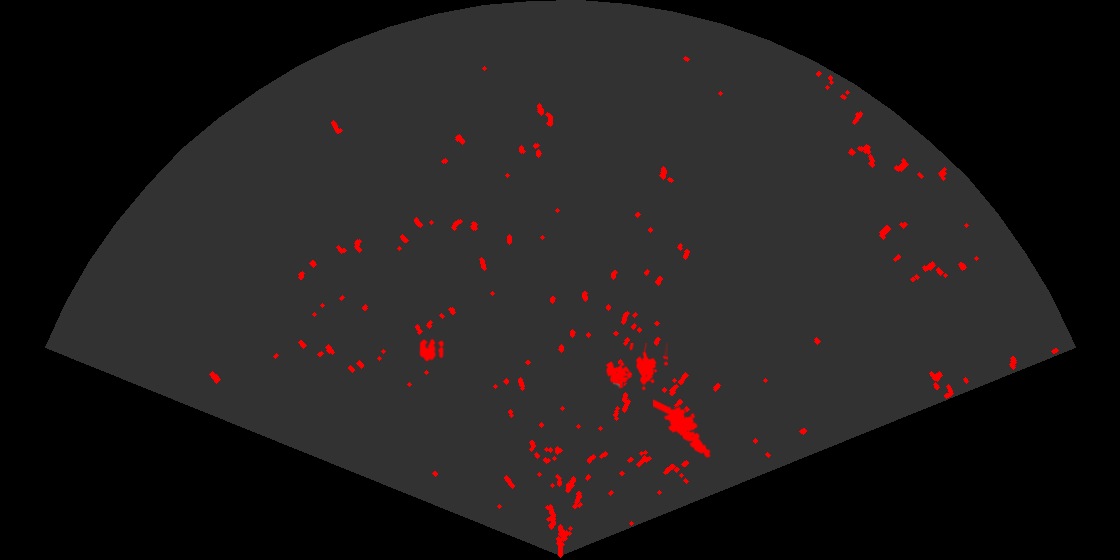ball: (418, 337, 446, 363)
cage: (604, 343, 668, 392)
frogman: (653, 397, 712, 460)
